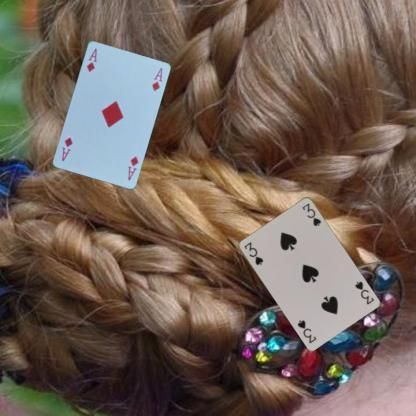3s: (352, 278, 375, 306), (242, 239, 264, 266)
Ad: (125, 153, 140, 182), (84, 45, 98, 73)
